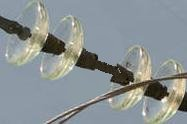gap: (38, 13, 153, 115)
